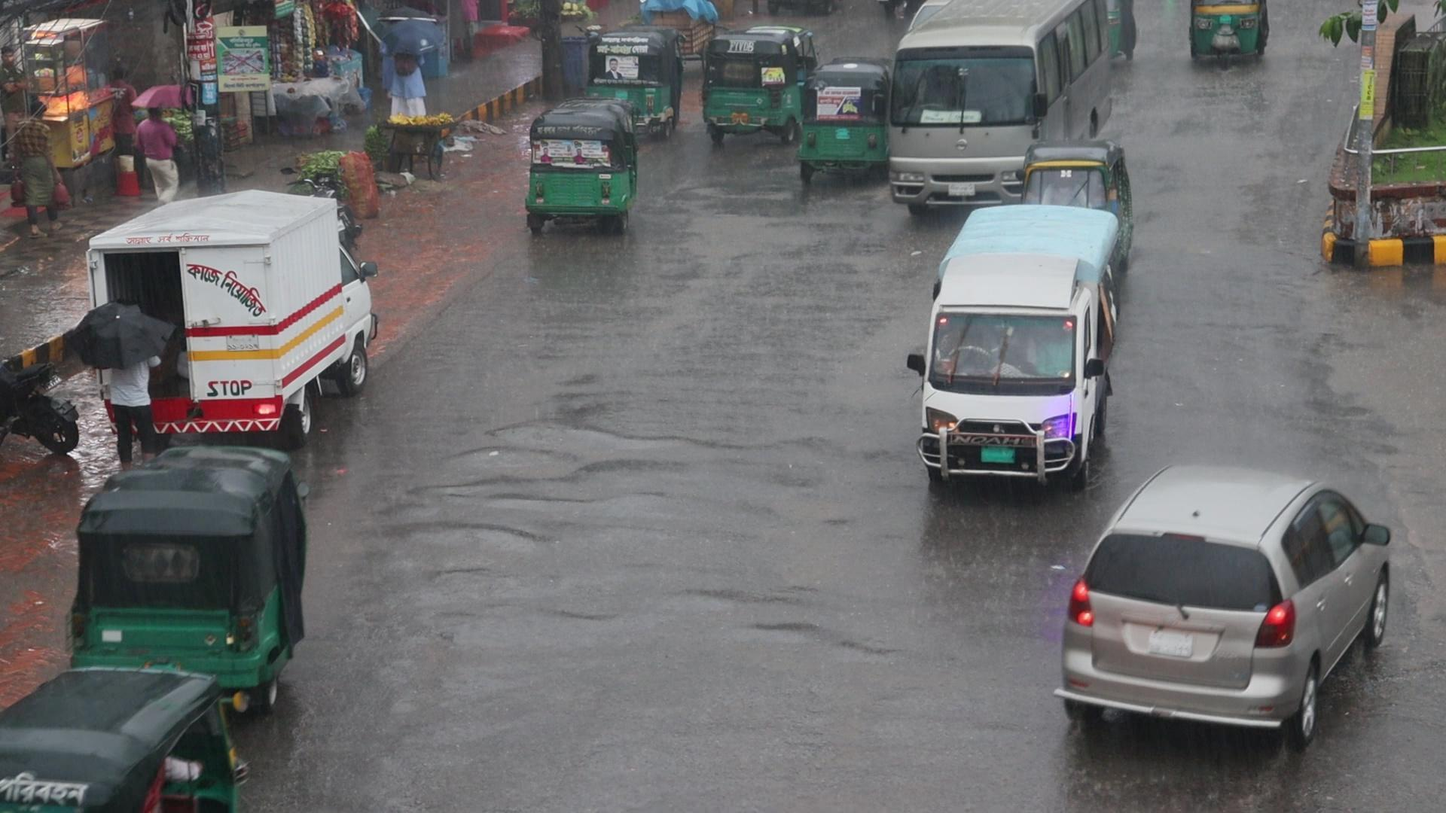Bus: (889, 0, 1113, 150)
Car: (1047, 448, 1399, 752)
Truck: (907, 192, 1130, 496)
